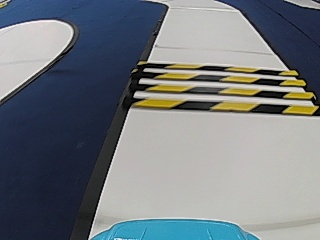bump: (127, 61, 318, 120)
